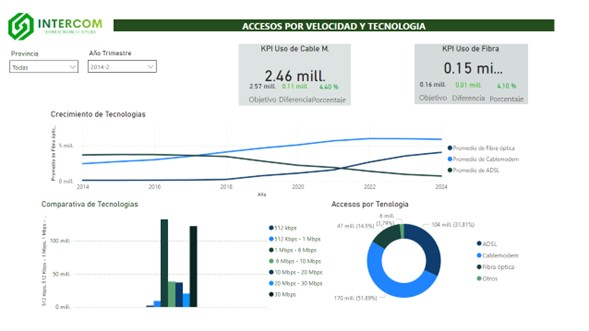

What the dashboard file says about the page in this screenshot:
{"tool":"powerbi","page":{"name":"Página 3","canvas":[1280,720],"ordinal":2},"visuals":[{"type":"card","fields":{"Values":["Totales Accesos Por Tecnología.AccesosporTecnologiaF"]},"box":[898.7,166.4,79.5,58.5],"z":0,"group":"g1"},{"type":"card","fields":{"Values":["Totales Accesos Por Tecnología.AccesosporCableModem"]},"box":[518.4,169.1,104.2,61.3],"z":0,"group":"g2"},{"type":"donutChart","title":"Accesos por Tenologia","fields":{"Y":["Sum(Accesos Por Tecnología.ADSL)","Sum(Accesos Por Tecnología.Cablemodem)","Sum(Accesos Por Tecnología.Fibra óptica)","Sum(Accesos Por Tecnología.Otros)"]},"box":[714.1,433.4,425.1,246.9],"z":0},{"type":"textbox","title":"ACCESOS POR VELOCIDAD Y  TECNOLOGIA","box":[246.9,43.4,955.4,26.3],"z":1000},{"type":"card","title":"KPI Uso de Cable M.","fields":{"Values":["Avg(Totales Accesos Por Tecnología.Cablemodem)"]},"box":[525,96,230,79],"z":1000,"group":"g2"},{"type":"card","title":"KPI Uso de Fibra","fields":{"Values":["Avg(Totales Accesos Por Tecnología.Fibra óptica)"]},"box":[953.6,96,144.5,78.6],"z":1000,"group":"g1"},{"type":"image","box":[0,0,246.3,114.1],"z":2000},{"type":"card","fields":{"Values":["Totales Accesos Por Tecnología.Acceso ToT diff Fibra"]},"box":[964.5,166.4,102.4,60.3],"z":2000,"group":"g1"},{"type":"card","fields":{"Values":["Totales Accesos Por Tecnología.Acceso ToT diff"]},"box":[589.7,169.1,102.4,60.3],"z":2000,"group":"g2"},{"type":"card","fields":{"Values":["Totales Accesos Por Tecnología.Accesos Fibra%"]},"box":[1051.4,169.1,93.3,57.6],"z":3000,"group":"g1"},{"type":"card","fields":{"Values":["Totales Accesos Por Tecnología.Accesos Cable%"]},"box":[667.4,171,93.3,57.6],"z":3000,"group":"g2"},{"type":"clusteredColumnChart","title":"Comparativa de Tecnologias","fields":{"Y":["Sum(Accesos por rangos.HASTA 512 kbps)","Sum(Accesos por rangos.+ 512 Kbps - 1 Mbps)","Sum(Accesos por rangos.+ 1 Mbps - 6 Mbps)","Sum(Accesos por rangos.+ 6 Mbps - 10 Mbps)","Sum(Accesos por rangos.+ 10 Mbps - 20 Mbps)","Sum(Accesos por rangos.+ 20 Mbps - 30 Mbps)","Sum(Accesos por rangos.+ 30 Mbps)"]},"box":[85.9,433.4,628.1,246.9],"z":3000},{"type":"slicer","fields":{"Values":["Dim_Provincias.Provincia"]},"box":[11.9,104.2,169.1,74.1],"z":4000},{"type":"slicer","fields":{"Values":["DATE.Año_Trimestre_Vis"]},"box":[181,103.3,169.1,71.3],"z":5000},{"type":"lineChart","title":"Crecimiento de Tecnologias","fields":{"Category":["DATE.Año"],"Y":["Avg(Totales Accesos Por Tecnología.Fibra óptica)","Avg(Totales Accesos Por Tecnología.Cablemodem)","Avg(Totales Accesos Por Tecnología.ADSL)"]},"box":[106.1,237.7,1033.1,195.7],"z":6000},{"type":"group","id":"g1","title":"Grupo 1","box":[898.7,96,245.9,130.7],"z":7000},{"type":"group","id":"g2","title":"Grupo 2","box":[518.4,96,242.3,134.4],"z":8000}]}

Visuals, with their boxes in screenshot pixels (x1, y1, x2, y2), scaled from the page's 1280x720 canvas onto the 589x331 screenshot:
card - Totales Accesos Por Tecnología.AccesosporTecnologiaF: <bbox>414, 76, 450, 103</bbox>
card - Totales Accesos Por Tecnología.AccesosporCableModem: <bbox>239, 78, 286, 106</bbox>
"Accesos por Tenologia" donutChart: <bbox>329, 199, 524, 313</bbox>
"ACCESOS POR VELOCIDAD Y  TECNOLOGIA" textbox: <bbox>114, 20, 553, 32</bbox>
"KPI Uso de Cable M." card: <bbox>242, 44, 347, 80</bbox>
"KPI Uso de Fibra" card: <bbox>439, 44, 505, 80</bbox>
image: <bbox>0, 0, 113, 52</bbox>
card - Totales Accesos Por Tecnología.Acceso ToT diff Fibra: <bbox>444, 76, 491, 104</bbox>
card - Totales Accesos Por Tecnología.Acceso ToT diff: <bbox>271, 78, 318, 105</bbox>
card - Totales Accesos Por Tecnología.Accesos Fibra%: <bbox>484, 78, 527, 104</bbox>
card - Totales Accesos Por Tecnología.Accesos Cable%: <bbox>307, 79, 350, 105</bbox>
"Comparativa de Tecnologias" clusteredColumnChart: <bbox>40, 199, 329, 313</bbox>
slicer - Dim_Provincias.Provincia: <bbox>5, 48, 83, 82</bbox>
slicer - DATE.Año_Trimestre_Vis: <bbox>83, 47, 161, 80</bbox>
"Crecimiento de Tecnologias" lineChart: <bbox>49, 109, 524, 199</bbox>
"Grupo 1" group: <bbox>414, 44, 527, 104</bbox>
"Grupo 2" group: <bbox>239, 44, 350, 106</bbox>
